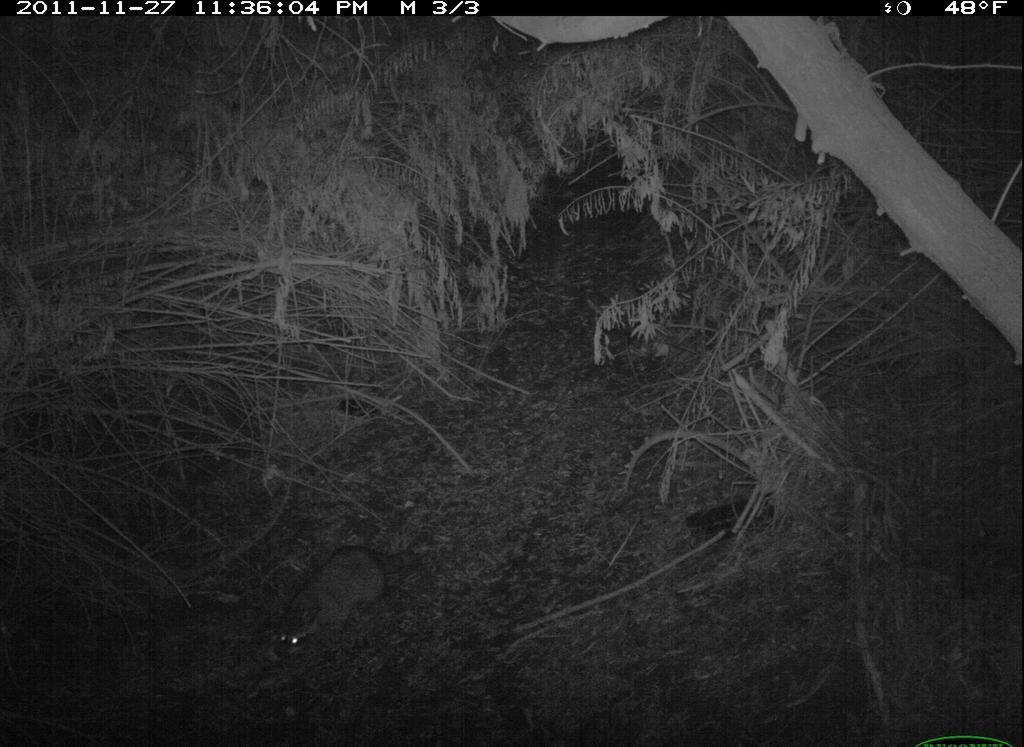raccoon: (265, 530, 419, 671)
